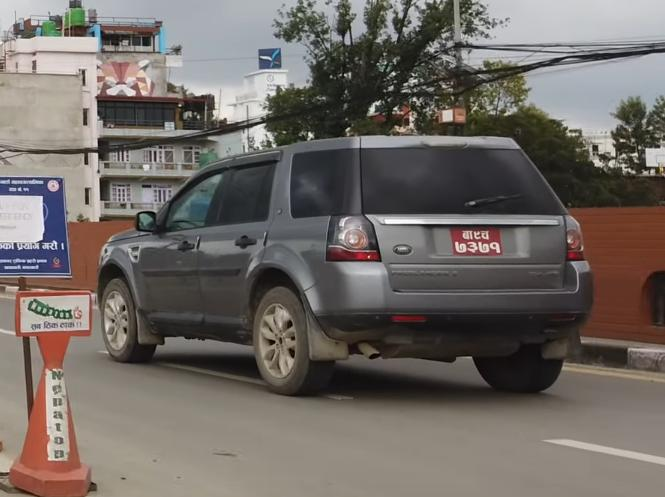SUV: (78, 124, 595, 408)
